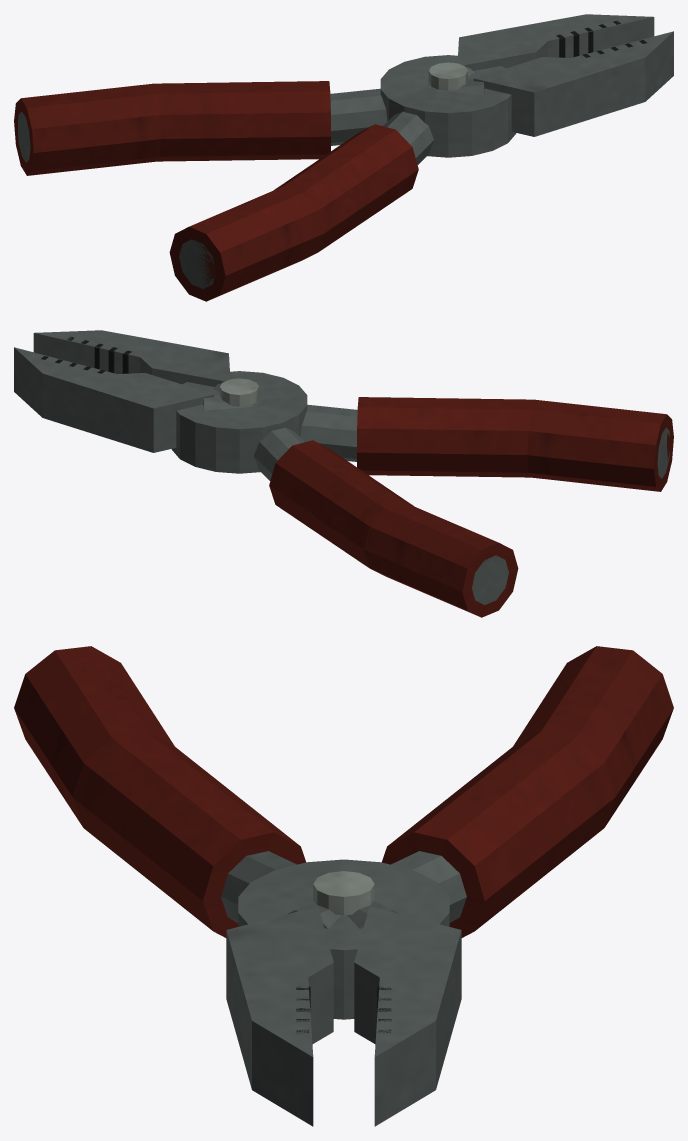
The model's file is combination_pliers.glb.
3 views of the same model, one above another, from view 1: azimuth 30°, elevation 25°; view 2: azimuth 150°, elevation 25°; view 3: azimuth 270°, elevation 25° (orthographic). The views are drawn at different scales.
Visible parts, largest first — view 1: combination_pliers; view 2: combination_pliers; view 3: combination_pliers.
Part boxes in pixels (left/top/right/bottom): combination_pliers: left=14, top=14, right=673, bottom=301; combination_pliers: left=14, top=330, right=673, bottom=617; combination_pliers: left=14, top=646, right=673, bottom=1126.
Bounding box in the file's own units: 0.1982 × 0.0274 × 0.1291.
4 materials, 4 textured.
